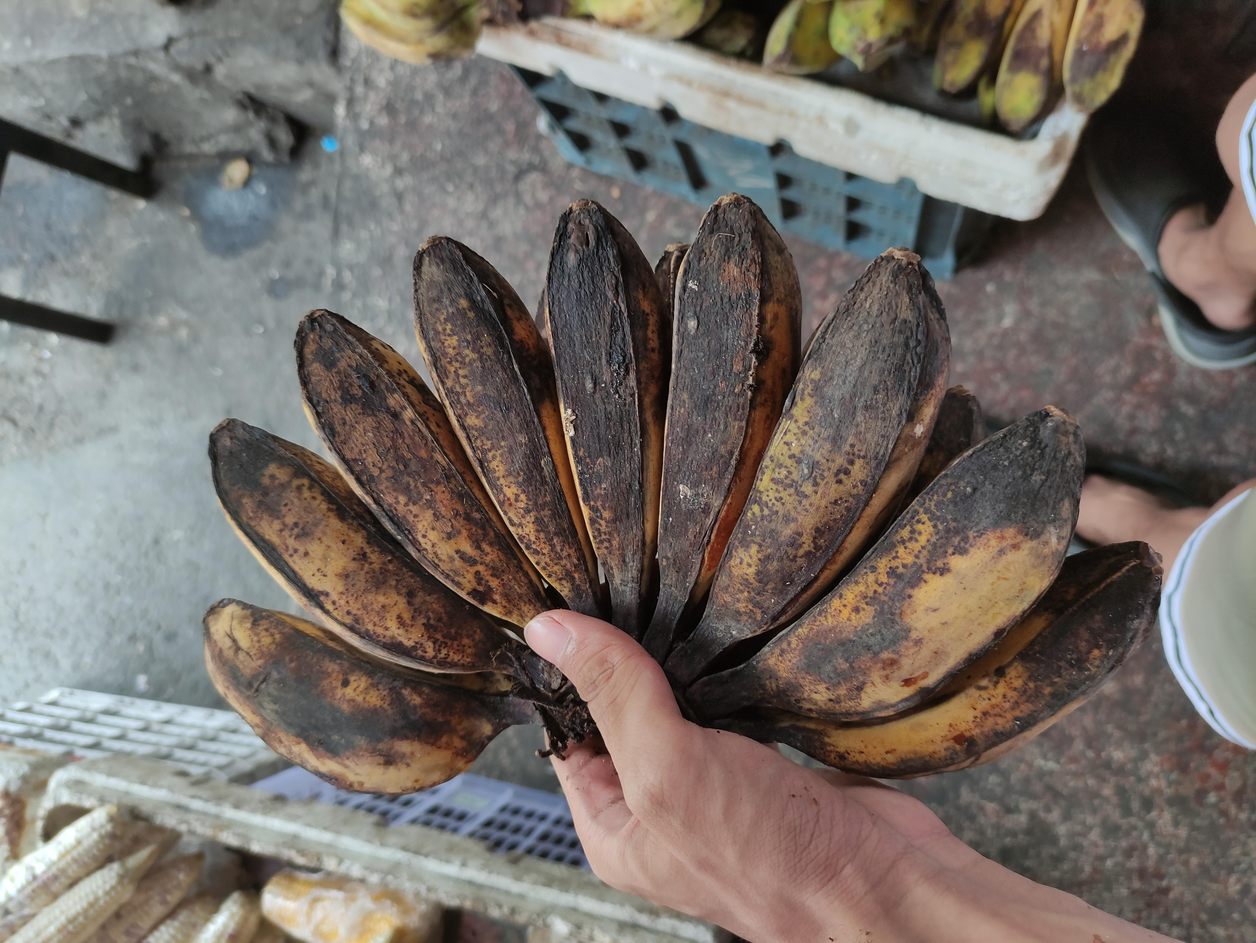overripe: (203, 194, 1161, 794)
